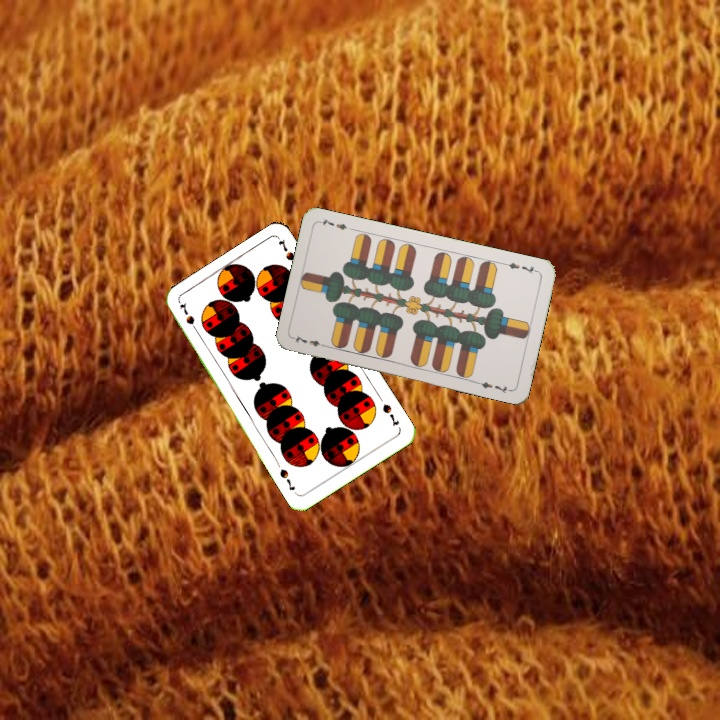E7: (500, 258, 540, 276), (290, 332, 330, 349)
S7: (175, 299, 202, 336), (378, 400, 402, 429)
